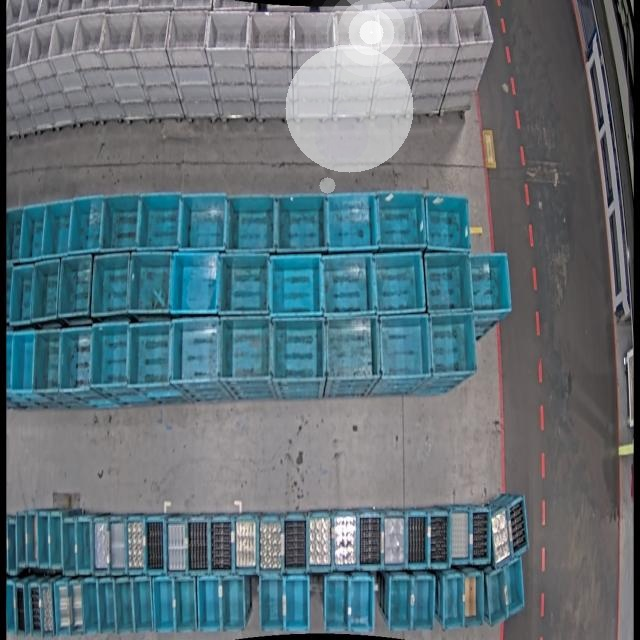Box: (377, 315, 431, 384), (270, 316, 324, 385), (372, 251, 427, 317), (322, 252, 377, 318), (269, 253, 324, 318), (325, 318, 379, 384), (372, 188, 427, 252), (430, 310, 480, 380), (220, 251, 272, 317), (274, 192, 328, 255), (219, 317, 269, 383), (173, 318, 222, 385), (226, 192, 277, 255), (422, 251, 472, 315), (326, 190, 377, 252), (169, 251, 218, 315), (424, 190, 472, 254), (469, 252, 515, 316), (181, 192, 229, 253), (89, 322, 131, 390), (130, 322, 172, 389), (138, 191, 184, 252), (91, 254, 132, 316), (132, 252, 172, 314), (58, 326, 93, 392), (102, 194, 140, 252), (58, 257, 93, 317), (333, 8, 380, 52), (247, 9, 294, 53), (291, 9, 337, 53), (67, 196, 101, 254), (205, 9, 249, 52), (376, 7, 420, 50), (416, 8, 459, 52), (452, 5, 493, 51), (131, 10, 170, 56), (42, 199, 74, 255), (100, 10, 135, 60), (32, 260, 61, 320), (167, 9, 208, 51), (33, 330, 60, 393), (306, 510, 332, 572), (76, 13, 106, 66), (11, 332, 37, 392), (20, 203, 47, 259), (282, 514, 307, 573), (11, 266, 37, 322), (507, 495, 529, 561), (209, 516, 234, 574), (234, 514, 258, 574), (334, 512, 358, 571), (262, 515, 286, 574), (348, 578, 373, 634), (357, 511, 381, 569), (381, 511, 405, 569), (486, 566, 509, 626), (504, 556, 526, 618), (406, 509, 429, 568), (491, 506, 512, 570), (326, 577, 350, 632), (412, 576, 436, 631), (166, 515, 188, 574), (198, 578, 222, 632), (284, 581, 308, 635), (388, 576, 411, 632), (443, 574, 466, 630), (428, 512, 450, 570), (450, 508, 472, 565), (48, 18, 79, 58), (144, 515, 165, 574), (264, 576, 286, 630), (132, 577, 153, 633), (28, 21, 55, 64), (192, 518, 212, 576), (226, 578, 247, 632), (127, 515, 146, 574), (81, 580, 101, 636), (155, 579, 176, 632), (175, 579, 196, 632), (9, 27, 35, 69), (109, 516, 128, 573), (463, 571, 482, 628), (55, 581, 74, 636), (6, 208, 24, 264), (114, 580, 132, 634), (96, 516, 113, 573), (98, 579, 115, 634), (75, 516, 91, 574), (473, 510, 490, 564), (68, 580, 84, 637), (63, 514, 78, 574), (28, 581, 43, 637), (36, 509, 50, 568), (14, 580, 28, 638), (48, 511, 62, 568), (40, 581, 54, 637), (14, 512, 27, 571), (27, 510, 40, 568), (85, 516, 97, 573)
